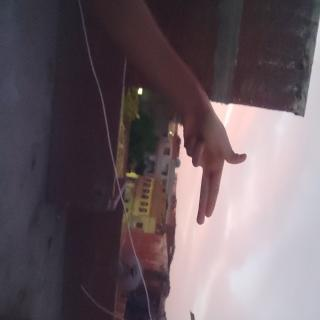GHAYN: (70, 93, 170, 190)
